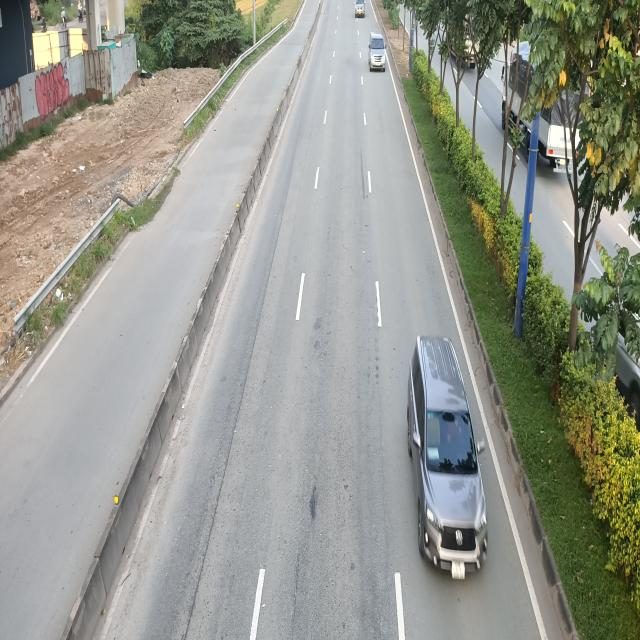car: (404, 335, 486, 579), (368, 31, 388, 71)
